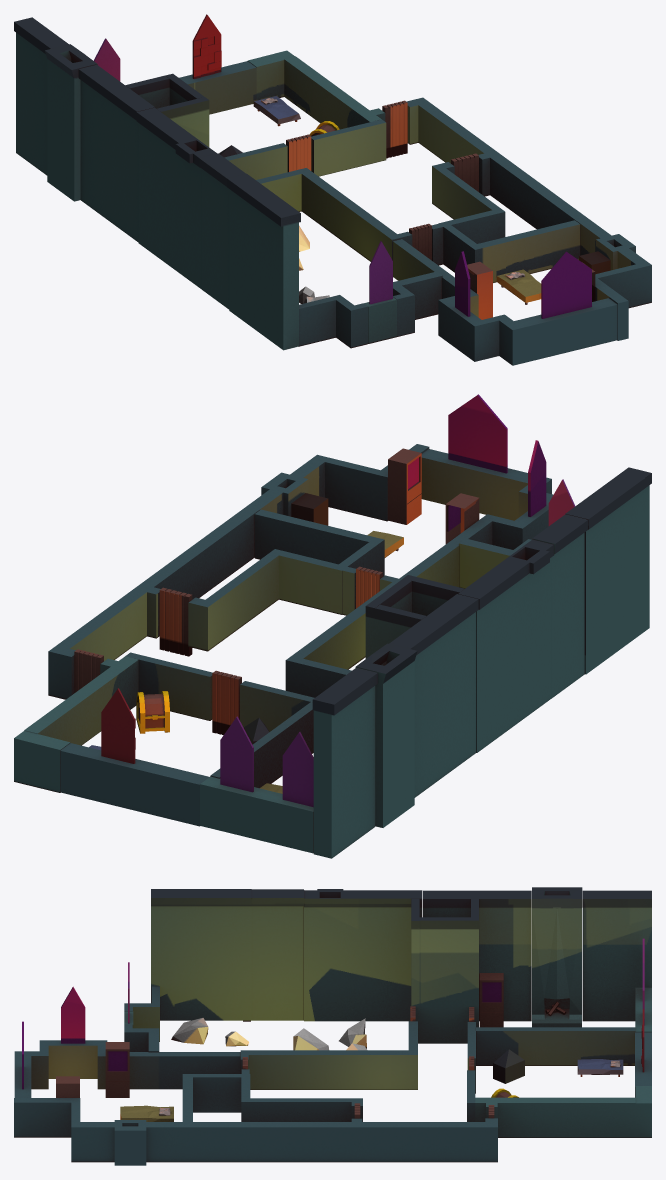
File: attic_walls.obj
The picture shows the model from 3 angles, top to bottom: view 1: azimuth 30°, elevation 25°; view 2: azimuth 150°, elevation 25°; view 3: azimuth 270°, elevation 25°; orthographic projection. The views are drawn at different scales.
Parts seen in each view (by area): view 1: Cube.368_Cube.649; view 2: Cube.368_Cube.649; view 3: Cube.368_Cube.649.
Part boxes in pixels (bbox=[...]): Cube.368_Cube.649: bbox=[14, 14, 651, 365]; Cube.368_Cube.649: bbox=[14, 394, 651, 858]; Cube.368_Cube.649: bbox=[14, 887, 651, 1165].
Bounding box in the file's own units: 8 × 3.22 × 13.95.
Materials: 25 (25 with a texture image).
